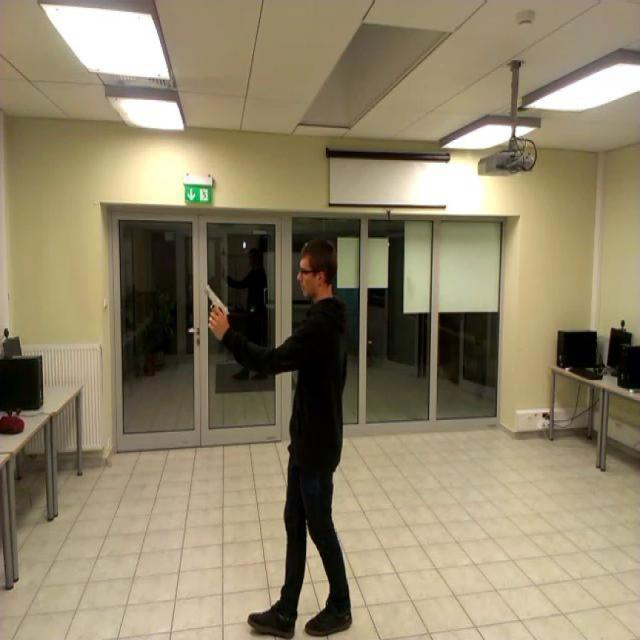pistol: (205, 284, 231, 328)
